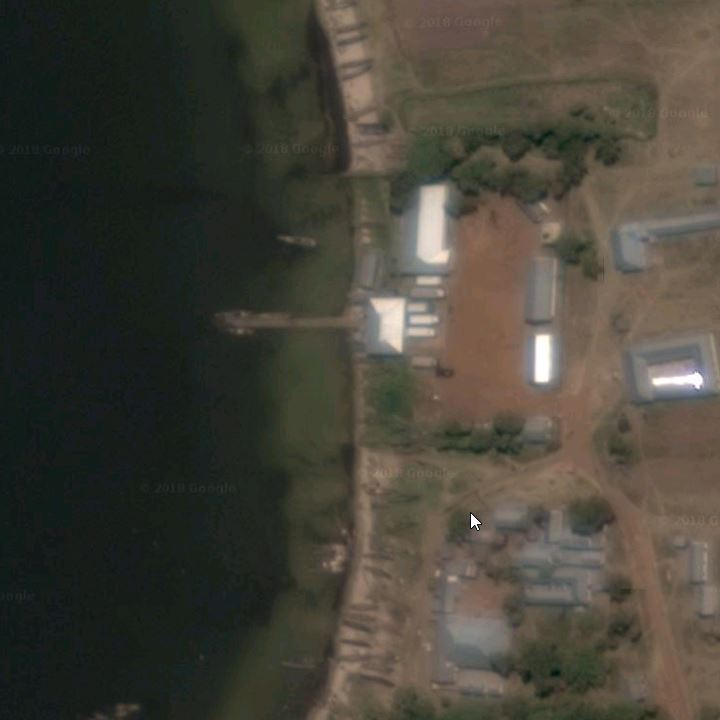boat: (340, 97, 385, 124), (333, 29, 373, 55), (218, 324, 263, 347), (273, 233, 326, 252), (249, 305, 297, 324), (332, 16, 373, 38), (214, 303, 256, 323), (361, 670, 398, 690), (332, 649, 376, 665), (336, 66, 373, 85), (339, 618, 374, 638), (360, 563, 394, 581), (332, 56, 376, 69), (279, 659, 322, 672), (346, 136, 388, 149), (360, 550, 395, 565), (344, 609, 376, 625), (386, 491, 422, 505), (339, 637, 372, 651), (346, 601, 379, 614), (364, 485, 399, 497), (313, 548, 348, 555), (311, 556, 347, 562), (309, 562, 344, 568), (310, 568, 343, 574)
